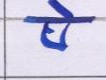e_matra: (47, 1, 76, 17)
